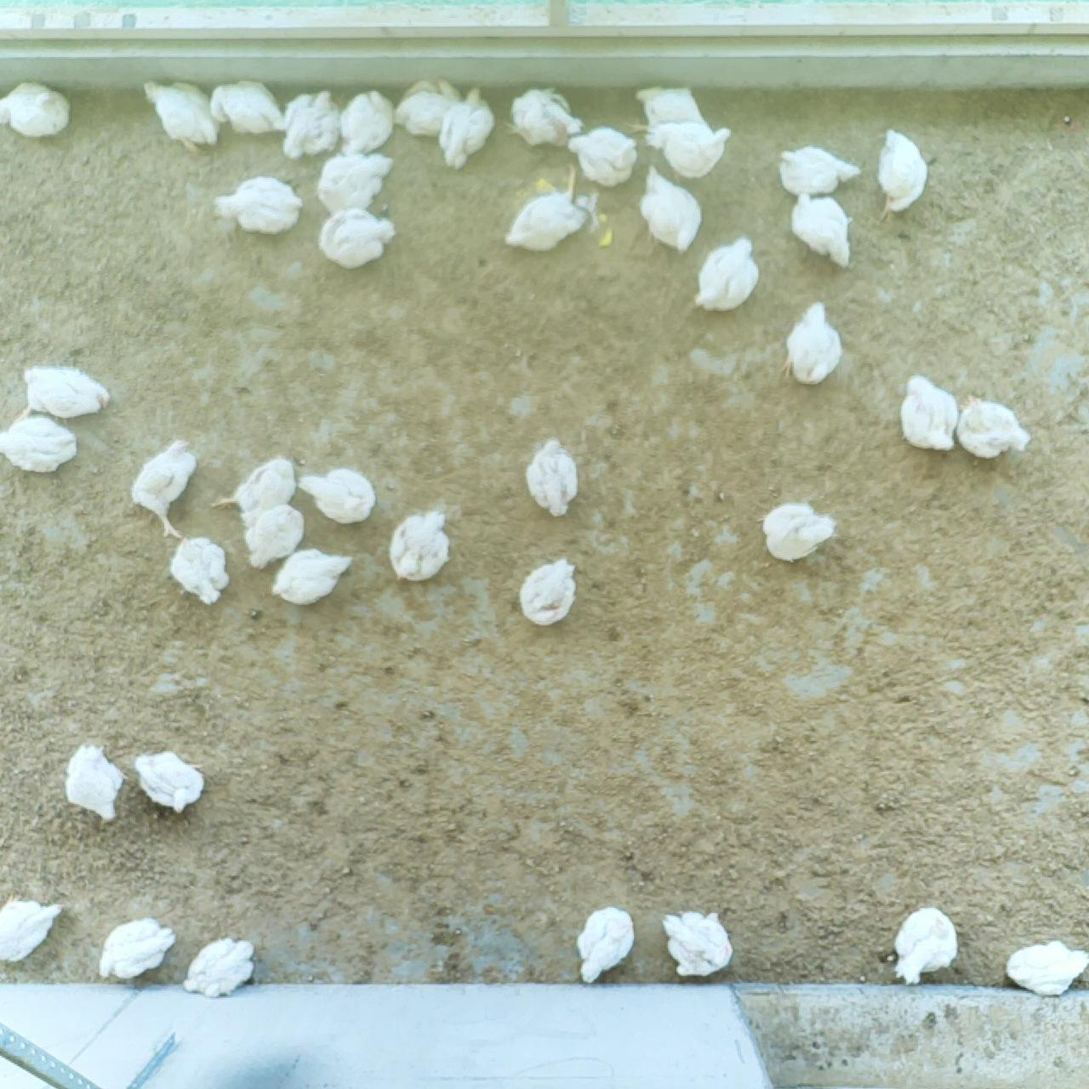chicken: (505, 162, 592, 251), (130, 437, 201, 541), (214, 453, 302, 529), (141, 78, 224, 152), (890, 906, 961, 989), (954, 389, 1030, 466), (181, 929, 261, 1001), (214, 175, 304, 239), (760, 495, 840, 565), (780, 299, 844, 386), (690, 233, 760, 312), (640, 165, 703, 252), (294, 461, 379, 525), (98, 915, 176, 984), (20, 361, 111, 420), (646, 119, 734, 180), (871, 126, 926, 222), (317, 149, 393, 218), (269, 545, 354, 606), (435, 84, 493, 173), (663, 909, 736, 979), (1004, 939, 1089, 999), (506, 83, 582, 150), (67, 740, 128, 822), (566, 120, 639, 188), (574, 905, 638, 982), (791, 192, 855, 269), (135, 750, 210, 815), (899, 372, 959, 453), (0, 886, 65, 960), (772, 142, 859, 197), (321, 207, 398, 269), (169, 529, 229, 608), (0, 413, 80, 472), (394, 73, 464, 139), (526, 438, 583, 518), (204, 77, 285, 133), (280, 86, 343, 158), (517, 554, 579, 625), (246, 500, 308, 571), (336, 85, 396, 157), (392, 508, 450, 582), (0, 78, 71, 138), (627, 86, 705, 140)
